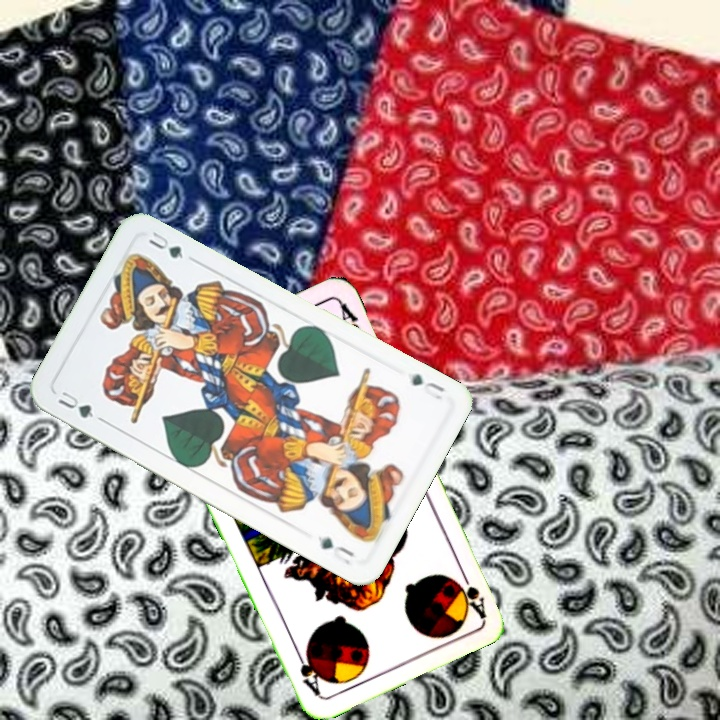GU: (54, 387, 106, 424), (407, 369, 448, 403)
SA: (455, 563, 489, 620)
